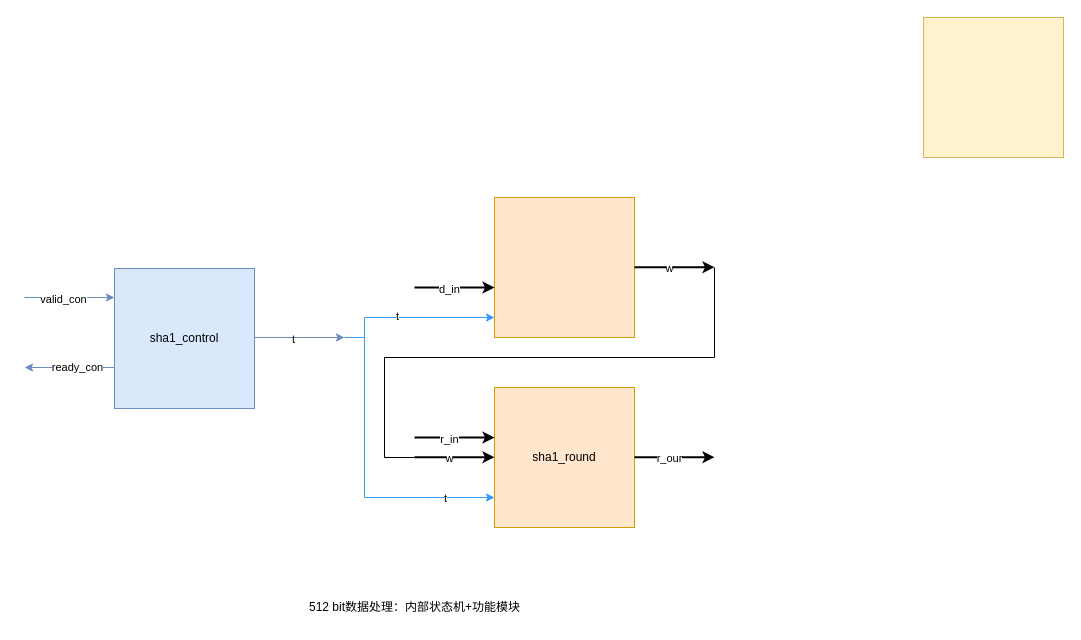
Some shapes in this 1081 by 640 pixel diagram are drawn without their labels. Here are the shapes that lost their labels. From the top down, the centre of each, then its label:
At (x=993, y=87): "sha1_data".
At (x=564, y=267): "sha1_w".
